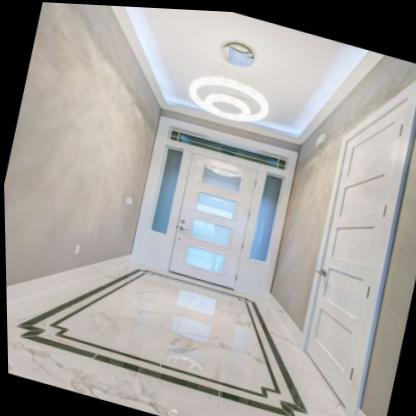Ceramic floor: (6, 262, 350, 416)
Gypsum Board: (51, 2, 403, 174)
